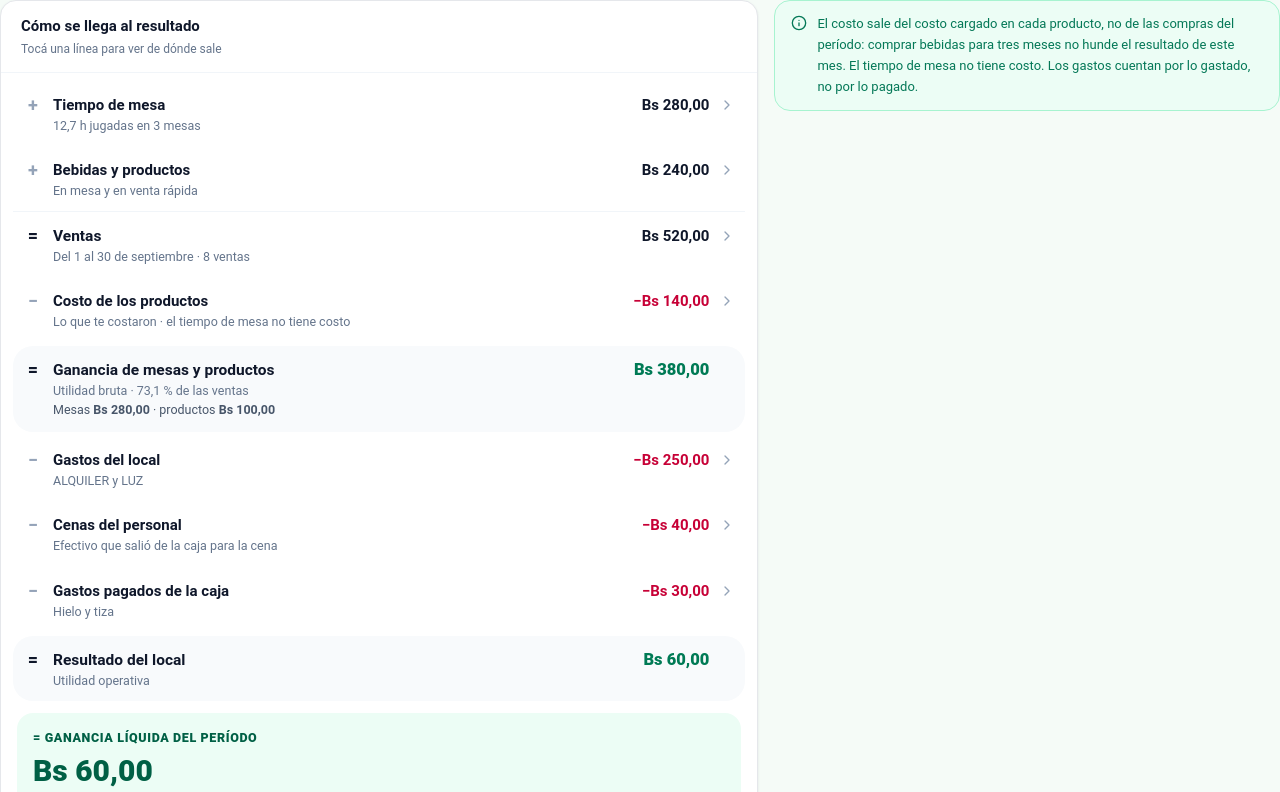
Test: estado de resultado por rubro › los gastos pagados de la caja restan en su línea y abren su detalle: qué, quién y de qué caja
Expected: the text "Hielo y tiza" is shown, 53,604 -> 114,619
Click the text "Gastos pagados de la caja".
click(141, 591)  # box 53,582 -> 229,600
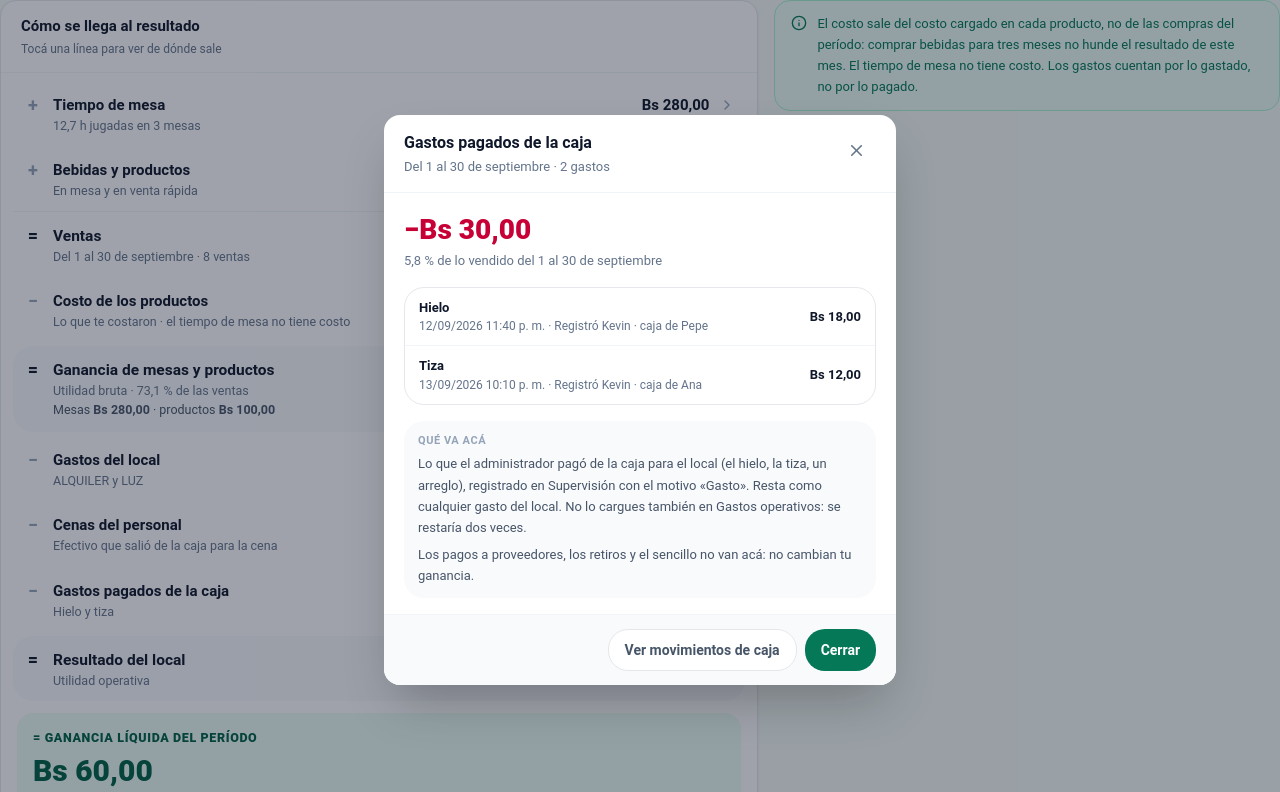
Now the text "Hielo" is shown, box 419,300 -> 450,315
Now the text "12/09/2026 11:40 p. m. · Registró Kevin · caja de Pepe" is shown, box 419,319 -> 708,333
Now the text "13/09/2026 10:10 p. m. · Registró Kevin · caja de Ana" is shown, box 419,378 -> 702,392
